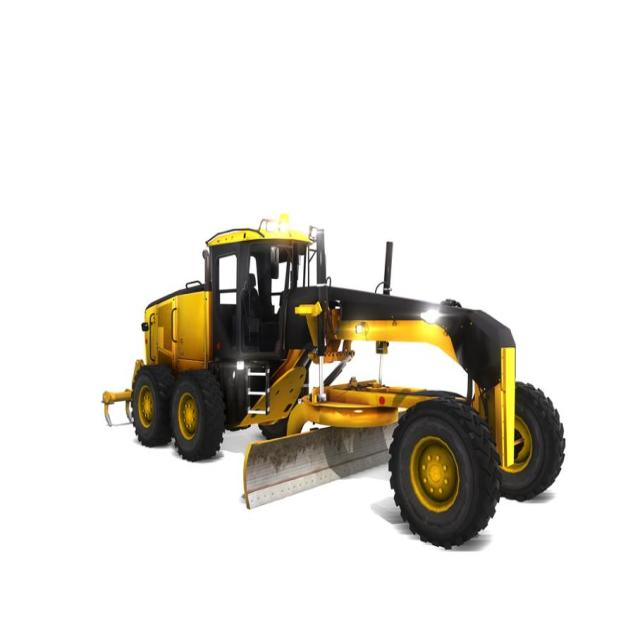buldozerpayloadergrader: (89, 220, 564, 556)
